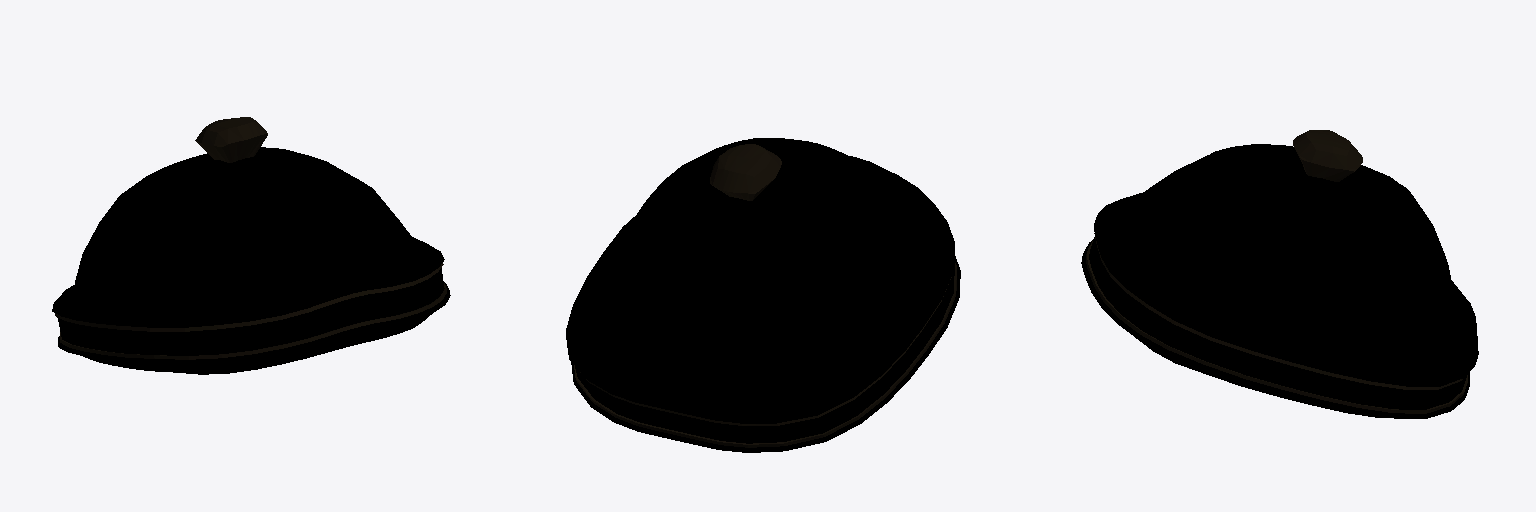
The model's file is Tweed_hat.obj.
3 views of the same model, side by side, from view 1: azimuth 30°, elevation 25°; view 2: azimuth 150°, elevation 25°; view 3: azimuth 270°, elevation 25° (orthographic).
Parts seen in each view (by area): view 1: cap; view 2: cap; view 3: cap.
Boxes of the visible parts, x1,y1,x2,y2 form: cap: [52, 117, 450, 374]; cap: [566, 138, 960, 452]; cap: [1081, 130, 1478, 418].
Size of the model in its own units: 21.92 by 16.08 by 23.85.